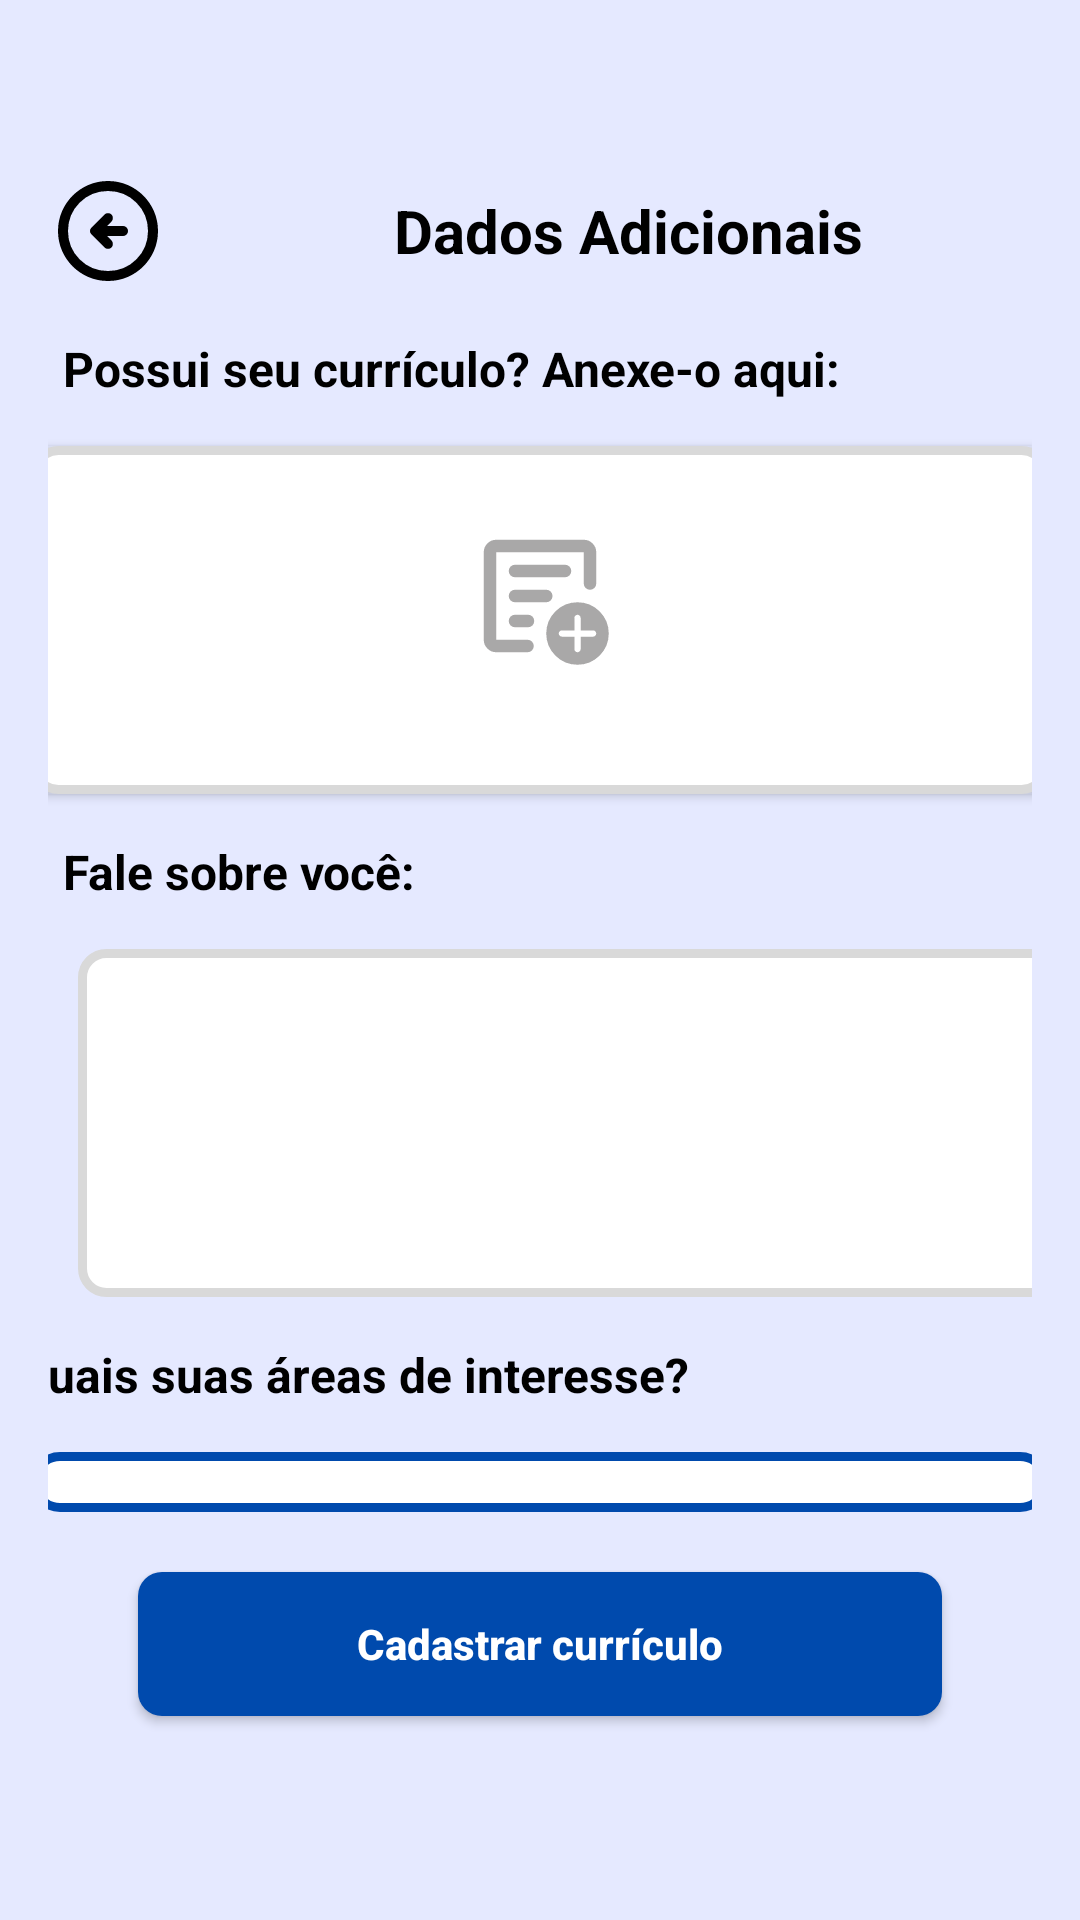

Icons on this 1080px×1920px Android screen, each with its box as (x1, y1, x2, y2):
back: (58, 181, 158, 281)
